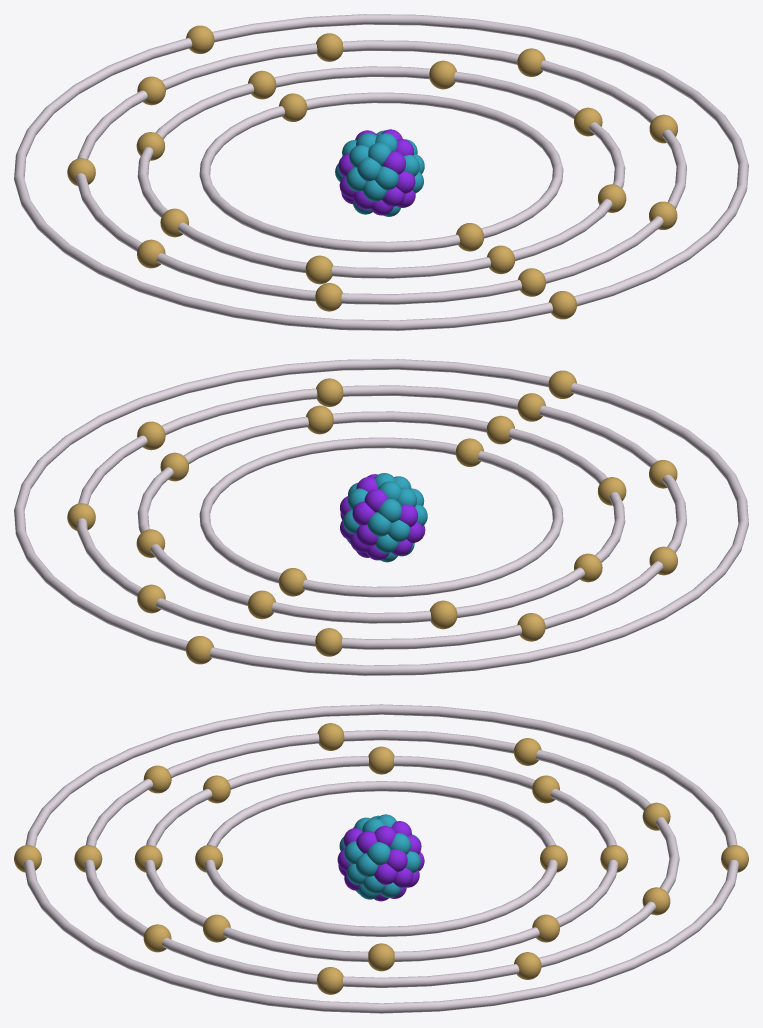
File: escandio.glb
3 renders of one model, top to bottom at view 1: azimuth 30°, elevation 25°; view 2: azimuth 150°, elevation 25°; view 3: azimuth 270°, elevation 25°, orthographic. The views are drawn at different scales.
Visible parts, largest first — view 1: Orbita_4, Orbita_3, Orbita_2, Orbita_1, Nucleo_Completo, Eletron_C2_8, Eletron_C3_9, Eletron_C3_5, Eletron_C2_4, Eletron_C2_1, Eletron_1, Eletron_C4_1 (+14 smaller); view 2: Orbita_4, Orbita_3, Orbita_2, Orbita_1, Nucleo_Completo, Eletron_C3_6, Eletron_C2_6, Eletron_C3_2, Eletron_C2_2, Eletron_C2_5, Eletron_2, Eletron_C4_2 (+14 smaller); view 3: Orbita_4, Orbita_3, Orbita_2, Orbita_1, Nucleo_Completo, Eletron_C2_3, Eletron_C3_3, Eletron_C3_8, Eletron_C2_7, Eletron_C3_4, Eletron_C3_7, Eletron_C2_2 (+14 smaller).
Boxes of the visible parts, x1,y1,x2,y2 form: Orbita_4: (14,14,748,330); Orbita_3: (76,40,686,304); Orbita_2: (137,66,625,278); Orbita_1: (199,92,563,252); Nucleo_Completo: (335,129,424,216); Eletron_C2_8: (305,255,332,284); Eletron_C3_9: (315,283,342,311); Eletron_C3_5: (316,33,343,61); Eletron_C2_4: (429,60,456,89); Eletron_C2_1: (487,245,514,274); Eletron_1: (456,223,484,251); Eletron_C4_1: (548,291,576,319); Orbita_4: (14,359,748,675); Orbita_3: (76,385,686,649); Orbita_2: (137,411,625,623); Orbita_1: (199,437,563,597); Nucleo_Completo: (340,473,427,562); Eletron_C3_6: (315,628,342,656); Eletron_C2_6: (430,600,457,629); Eletron_C3_2: (316,378,343,406); Eletron_C2_2: (306,405,333,434); Eletron_C2_5: (248,590,275,619); Eletron_2: (278,568,306,596); Eletron_C4_2: (186,636,214,664); Orbita_4: (24,704,738,1013); Orbita_3: (84,730,679,987); Orbita_2: (144,756,618,961); Orbita_1: (205,781,557,936); Nucleo_Completo: (337,814,424,901); Eletron_C2_3: (368,943,394,971); Eletron_C3_3: (316,967,343,994); Eletron_C3_8: (317,723,344,750); Eletron_C2_7: (368,746,394,774); Eletron_C3_4: (514,952,541,979); Eletron_C3_7: (514,738,541,765); Eletron_C2_2: (203,914,230,942).
Size of the model in its own units: 4.16 by 0.5038 by 4.26.
